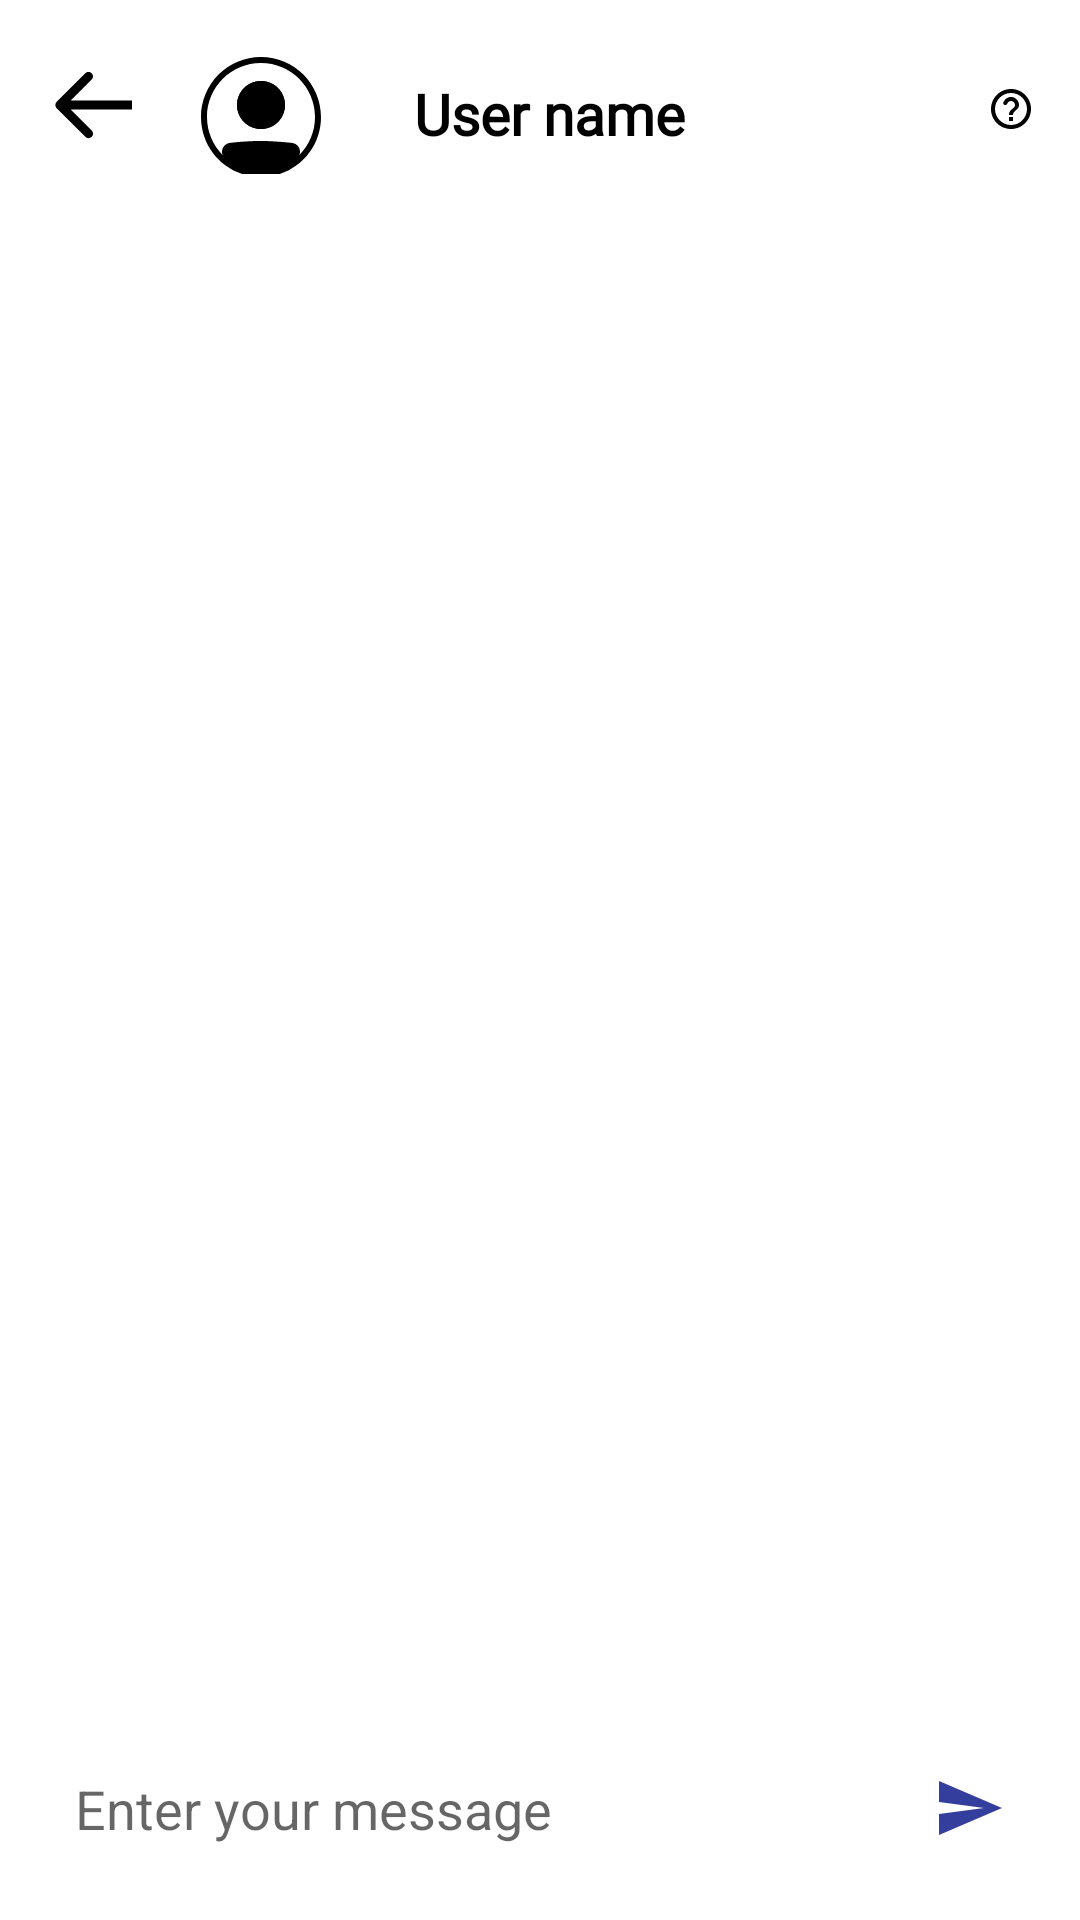

Screen size 1080px x 1920px. Icon name, then its center in pixels as point (x, y):
back: point (93, 105)
help: point (1011, 109)
Profile Picture: point (261, 115)
